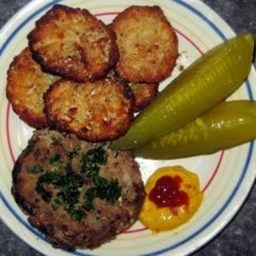background: (2, 1, 102, 101)
